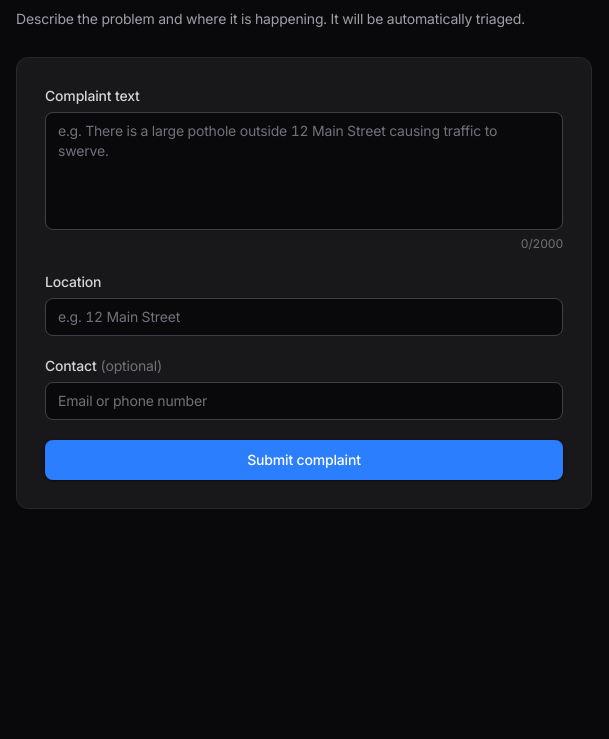
Test: SubmitPage › renders the triage result (category, priority, summary, provider) on success
Type "There is a large pothole here." into the text box labelled "Complaint text". click: (304, 171)
box: [45,112,563,230]
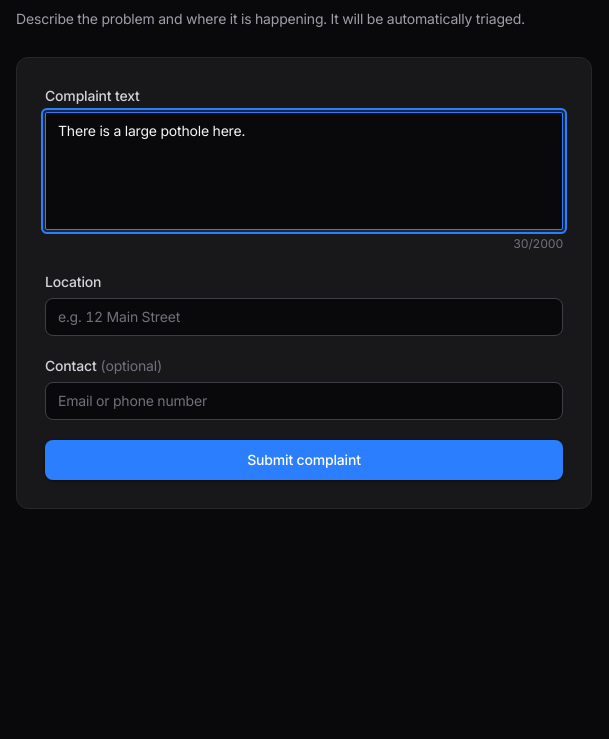
Type "12 Main Street" into the field labelled "Location". click: (304, 317)
box: [45,298,563,336]
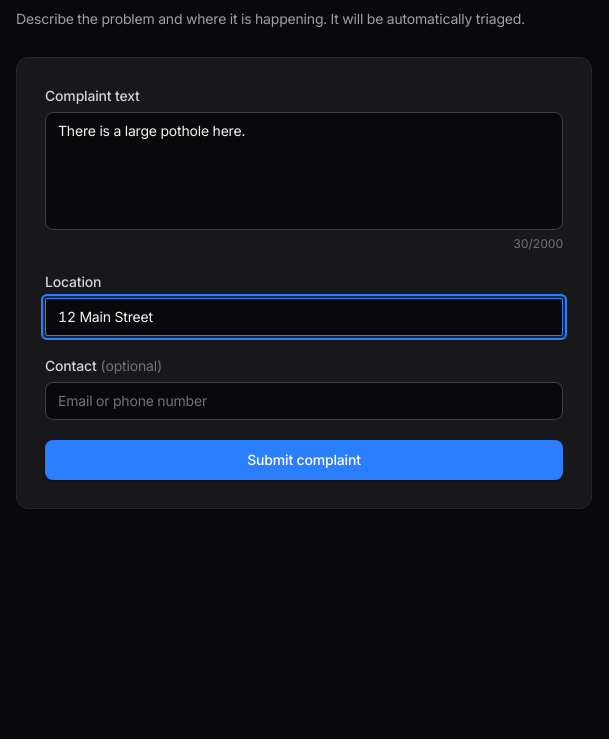
Click the button "Submit complaint". click: (304, 460)
box: [45,440,563,480]
(page scrolled)
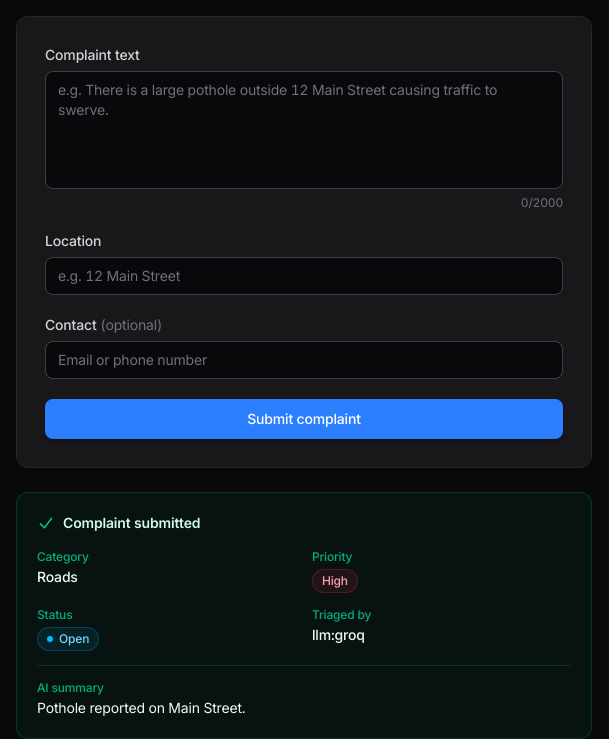
Expected: the heading "Complaint submitted" is shown, [63,513,200,533]
Expected: the text "roads" is shown, [37,568,78,585]
Expected: the text "high" is shown, [312,569,358,593]
